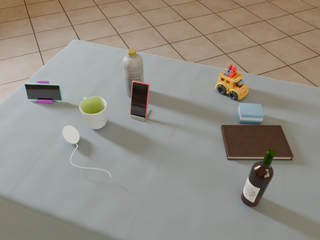book: (221, 125, 294, 160)
bottle: (241, 149, 276, 206), (123, 49, 144, 97)
box: (238, 103, 264, 124)
cup: (80, 97, 107, 129)
mouse: (63, 126, 79, 144)
phone: (130, 80, 150, 118), (24, 83, 63, 101)
toy_car: (215, 64, 248, 100)
